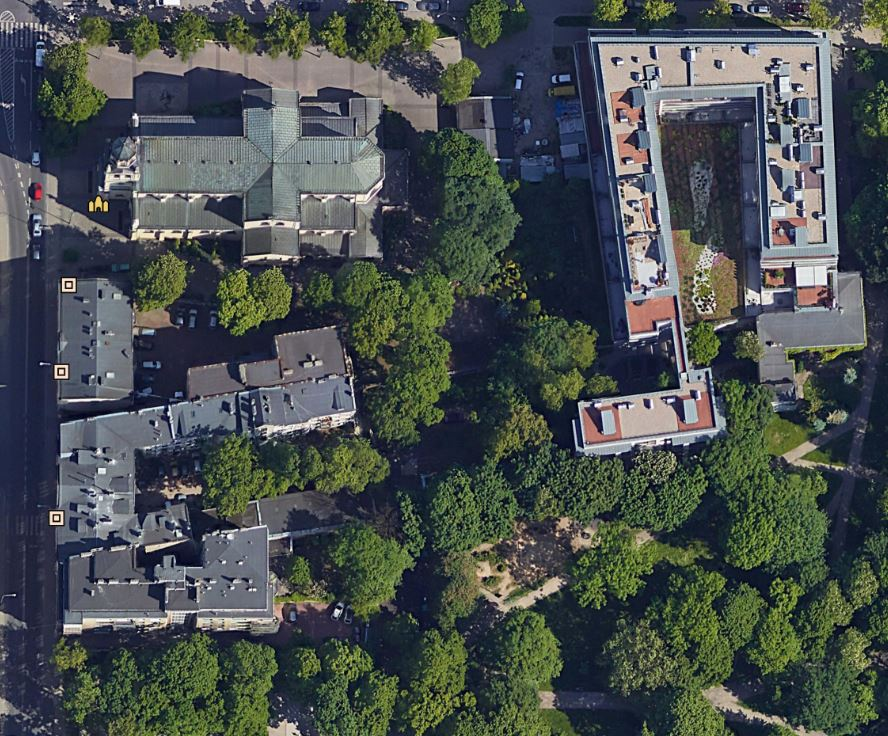block of flats: (549, 15, 881, 469), (41, 319, 368, 643), (44, 256, 153, 415)
church: (90, 75, 402, 275)
